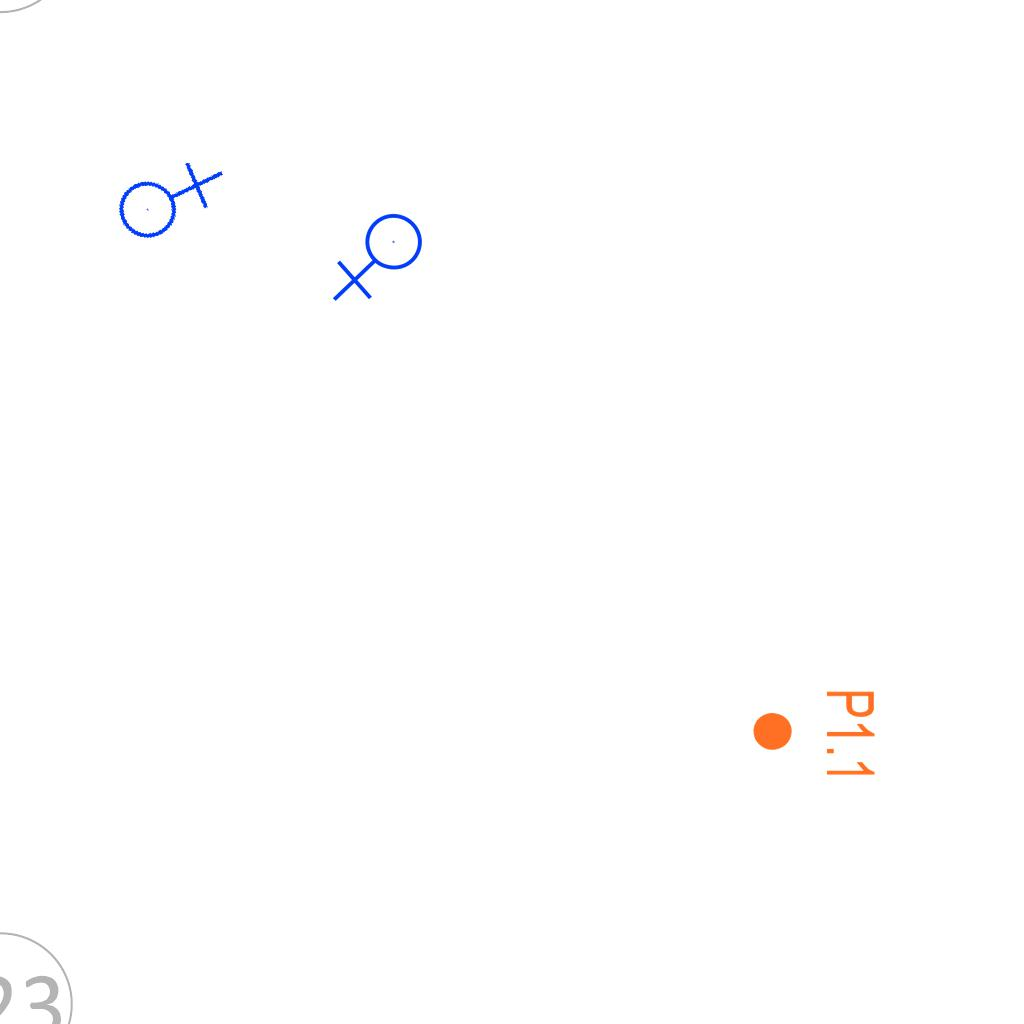Downlight_LED_Einbauleuchten_Flur: (750, 688, 878, 781)
Elektroanschluss_allgemein_230V_Geraeteanschlussdose_230V: (102, 137, 227, 257), (332, 212, 431, 306)
